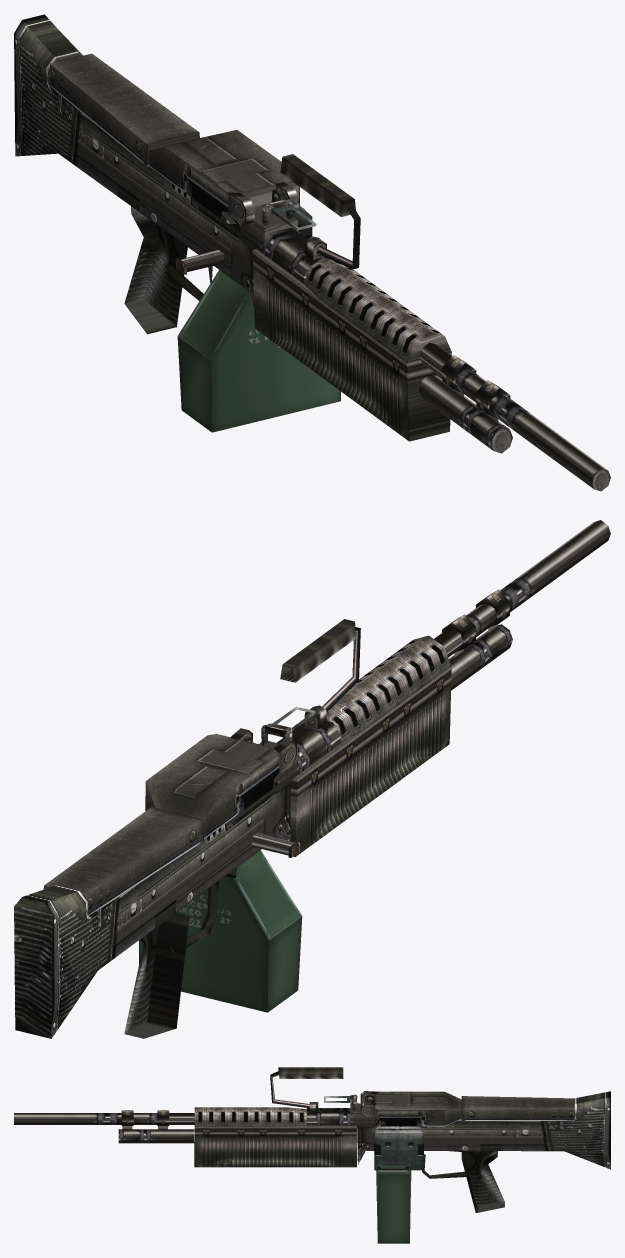
3 views of the same model, one above another, from view 1: azimuth 30°, elevation 25°; view 2: azimuth 150°, elevation 25°; view 3: azimuth 270°, elevation 25° (orthographic). The views are drawn at different scales.
Visible parts, largest first — view 1: _m60_3rd; view 2: _m60_3rd; view 3: _m60_3rd.
Part boxes in pixels (x1,y1,x2,y2): _m60_3rd: [14, 14, 610, 491]; _m60_3rd: [14, 520, 610, 1038]; _m60_3rd: [14, 1067, 610, 1243].
Bounding box in the file's own units: 0.1761 × 0.3406 × 1.21.
2 materials, 2 textured.
